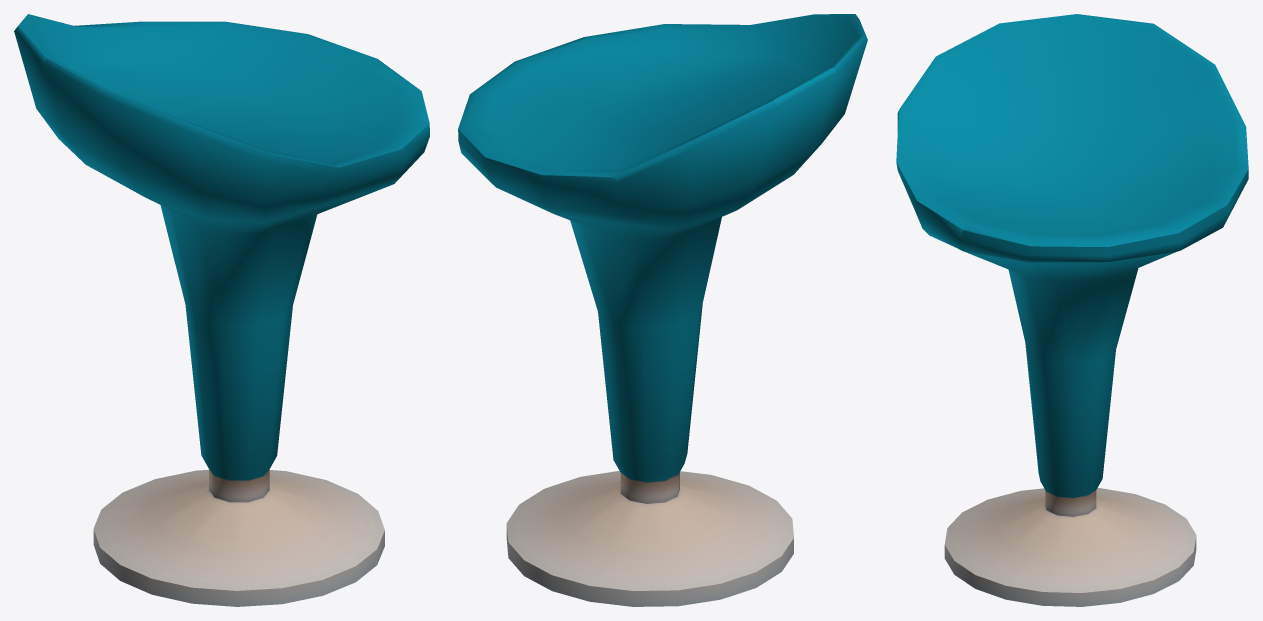
Rendered from Stool_Small.fbx.
3 views of the same model, side by side, from view 1: azimuth 30°, elevation 25°; view 2: azimuth 150°, elevation 25°; view 3: azimuth 270°, elevation 25° (orthographic). The views are drawn at different scales.
Visible parts, largest first — view 1: Empty_Mesh; view 2: Empty_Mesh; view 3: Empty_Mesh.
Boxes of the visible parts, x1,y1,x2,y2 form: Empty_Mesh: [14, 14, 429, 606]; Empty_Mesh: [458, 14, 867, 606]; Empty_Mesh: [896, 14, 1248, 606].
Bounding box in the file's own units: 47.76 × 68.74 × 47.73.
